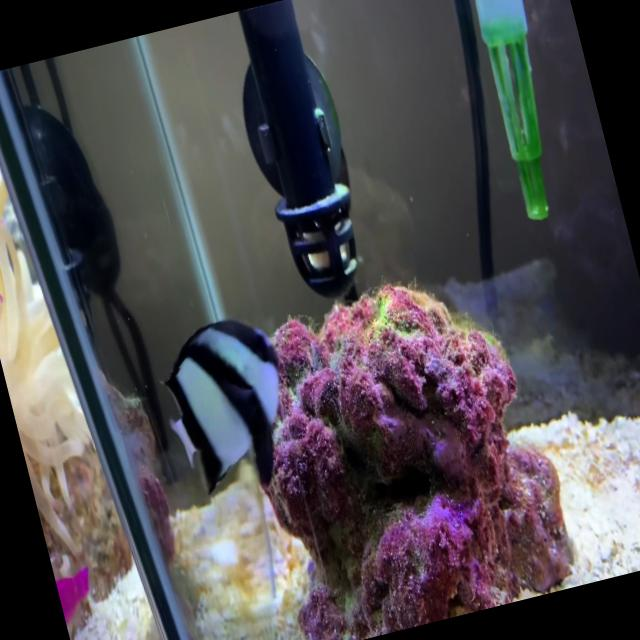ThreeStripedDamselfish: (164, 318, 278, 490)
